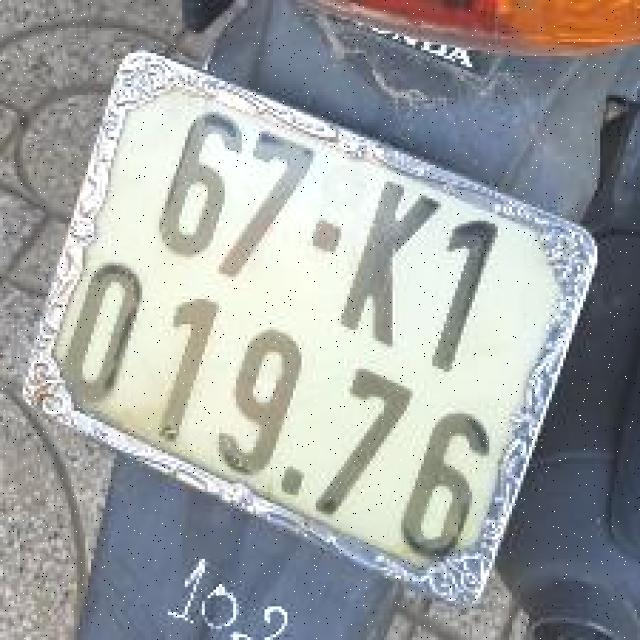0: (48, 246, 162, 419)
1: (134, 278, 239, 458), (415, 204, 518, 379)
6: (390, 398, 505, 569), (148, 100, 255, 269)
7: (299, 356, 425, 529), (205, 122, 327, 299)
9: (208, 314, 326, 482)
K: (327, 168, 455, 360)
